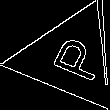P_NW: (36, 31, 102, 86)
